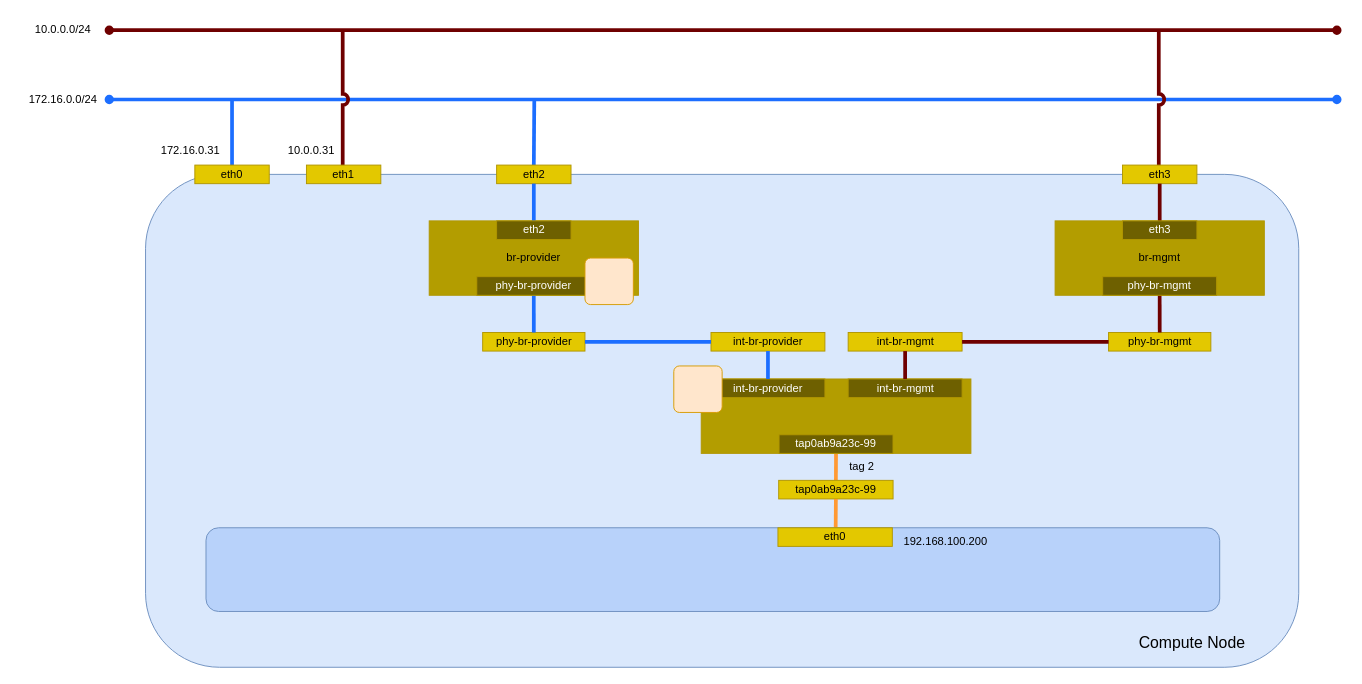
The diagram is 1362 pixels wide and 684 high, and some of its shapes have lost their labels. Each missing label, with the box of its shape:
br-int: (700, 378, 971, 453)
instance01: (205, 527, 1220, 611)
tag 100 ↑ tag 2: (584, 257, 633, 305)
tag 100 ↓ tag 2: (673, 365, 722, 412)
